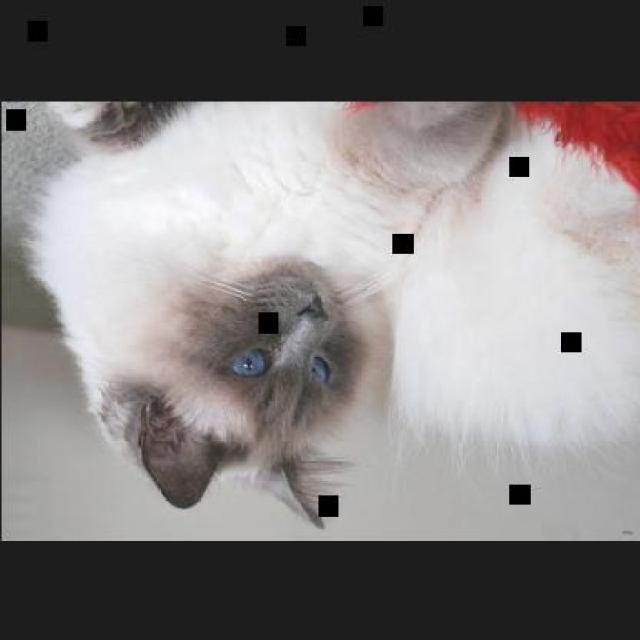unauthorized: (20, 99, 638, 528)
